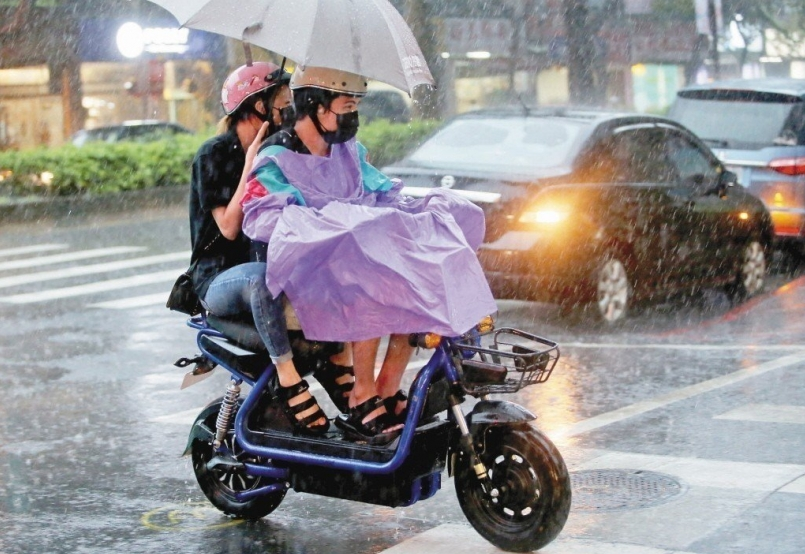helmet: (281, 54, 379, 100), (214, 51, 296, 102)
